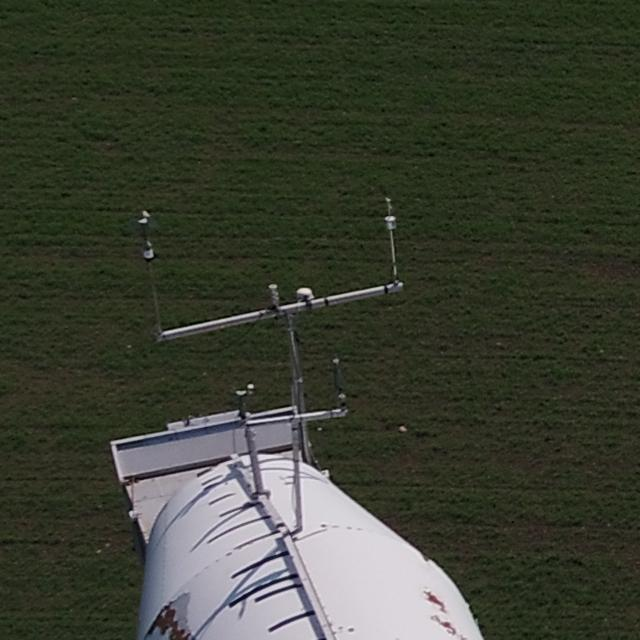damage: (140, 587, 202, 640), (430, 613, 462, 638), (422, 589, 450, 612)
